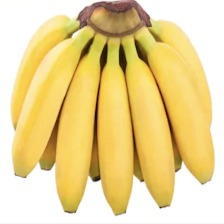banana: (30, 32, 224, 172)
